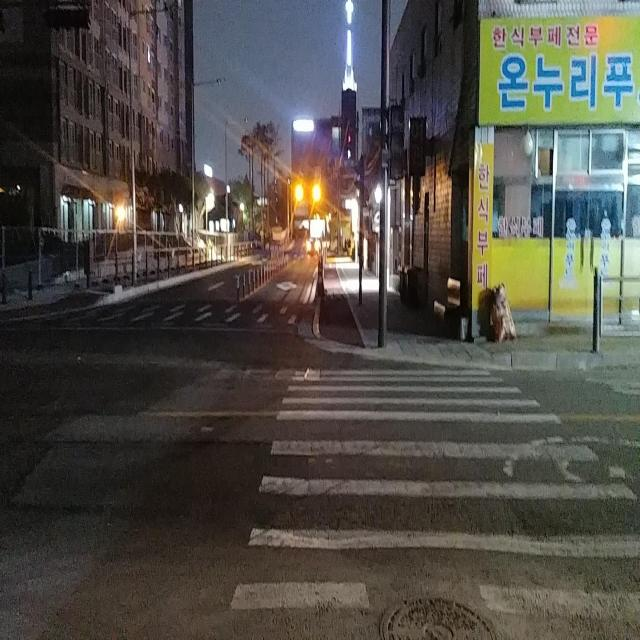횡단보도: (230, 364, 640, 624)
